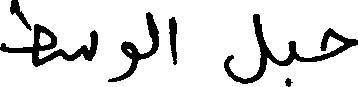ا: (167, 14, 177, 65)
ب: (283, 39, 295, 86)
ح: (319, 25, 356, 60)
س: (54, 27, 97, 61)
ط: (0, 0, 56, 67)
ل: (223, 11, 266, 83), (145, 9, 158, 59)
و: (107, 38, 137, 81)
